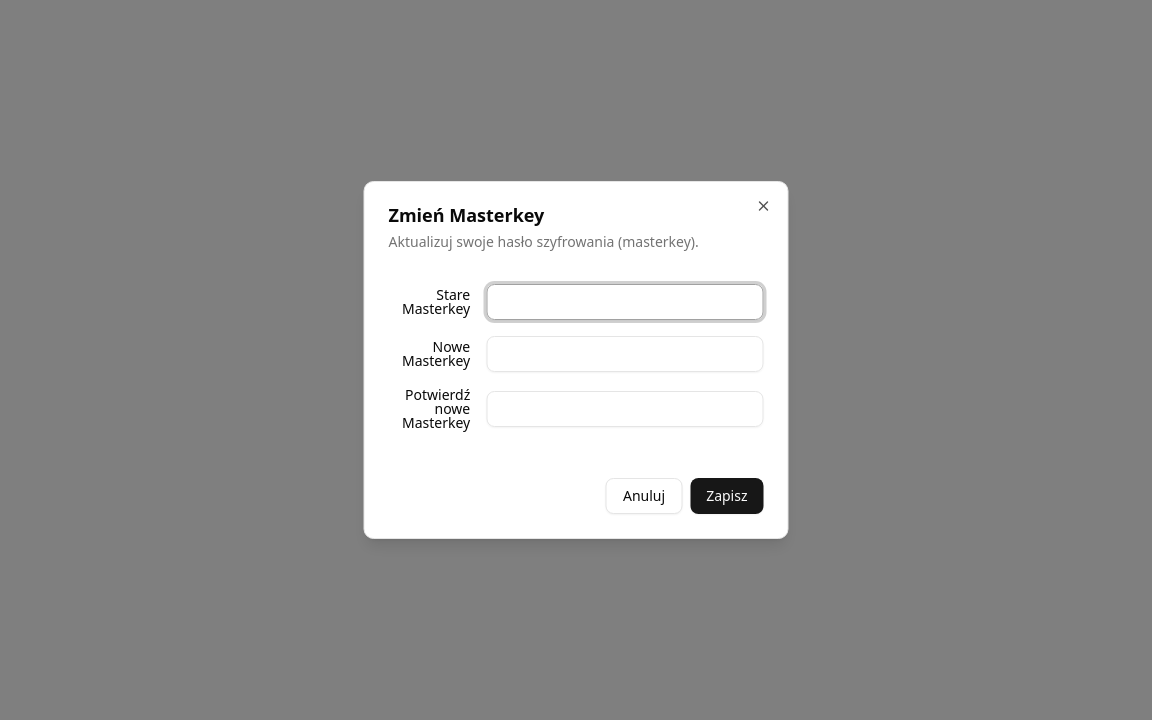
Test: Komponent UpdateMasterkeyDialog › wyświetla błąd walidacji, gdy pola są puste
This screenshot has width=1152, height=720.
What coordinates should you click on to do the following:
click the button "Zapisz"
I would click on:
 (727, 496)
Its box is [690, 478, 764, 514].
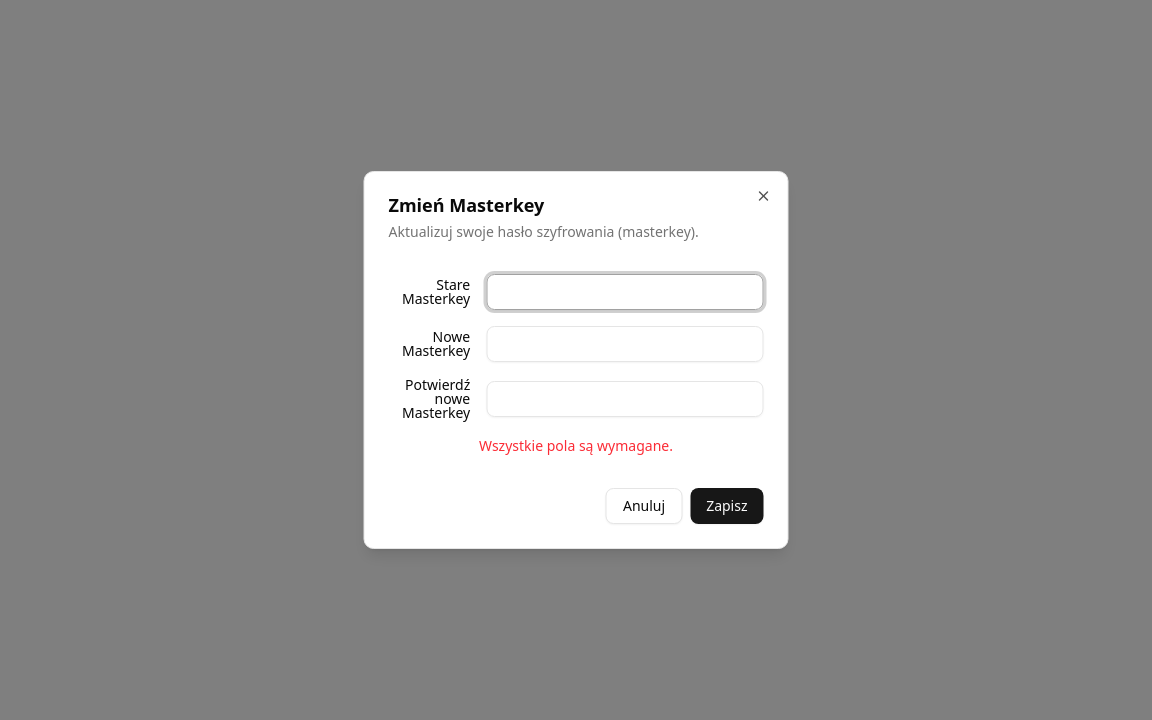
Expected: the text "Wszystkie pola są wymagane." is shown, [479, 436, 673, 455]
